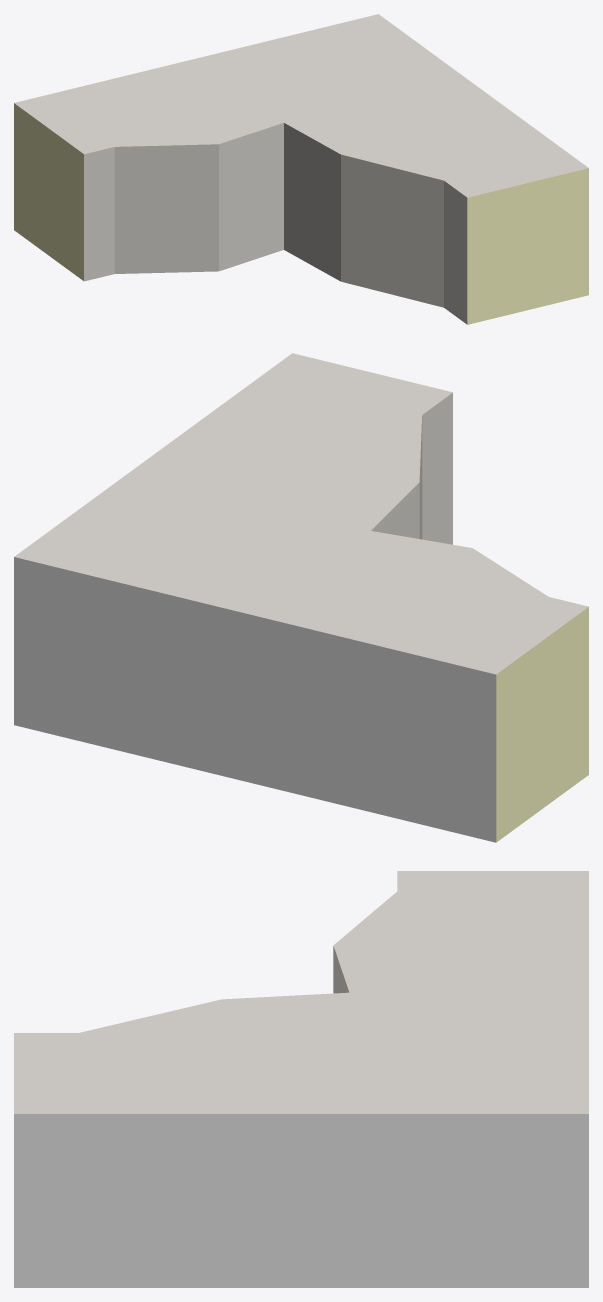
Rendered from Cracked_Curve_Inner_3x3_1_Mid.glb.
3 renders of one model, top to bottom at view 1: azimuth 30°, elevation 25°; view 2: azimuth 150°, elevation 25°; view 3: azimuth 270°, elevation 25°, orthographic. The views are drawn at different scales.
Visible parts, largest first — view 1: Cracked_Curve_Inner_3x3_1_Mid; view 2: Cracked_Curve_Inner_3x3_1_Mid; view 3: Cracked_Curve_Inner_3x3_1_Mid.
Part boxes in pixels (x1,y1,x2,y2): Cracked_Curve_Inner_3x3_1_Mid: (14,14,588,324); Cracked_Curve_Inner_3x3_1_Mid: (14,353,588,842); Cracked_Curve_Inner_3x3_1_Mid: (14,871,588,1287).
Bounding box in the file's own units: 300 × 100 × 300.
